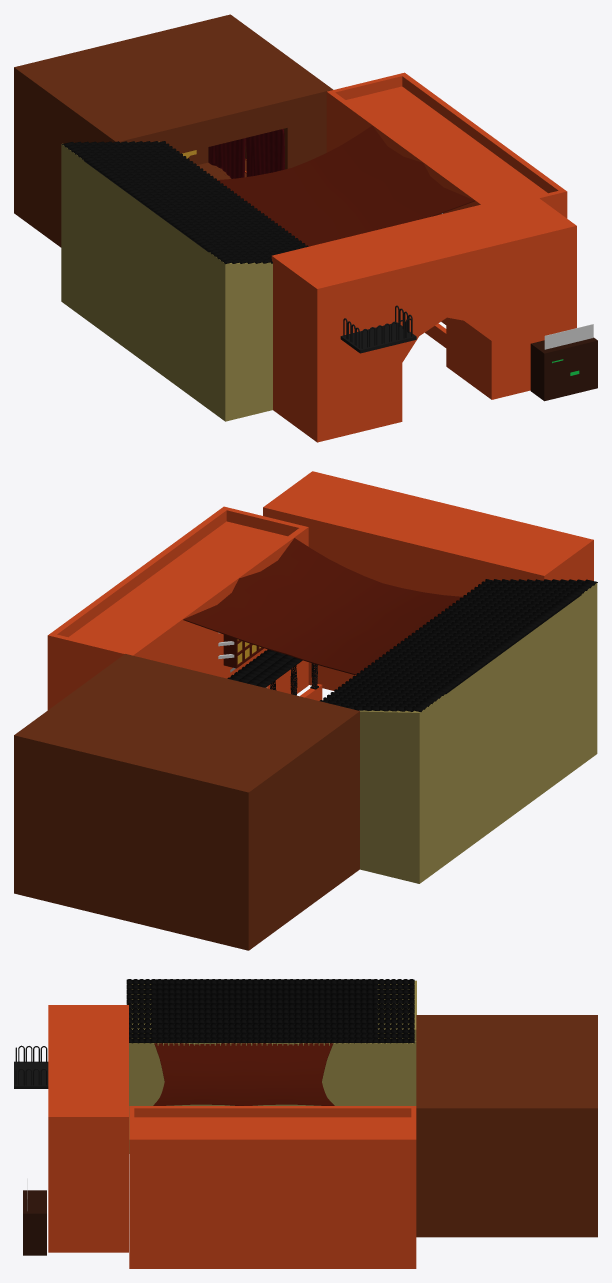
File: NuevoEdificio.obj
3 views of the same model, one above another, from view 1: azimuth 30°, elevation 25°; view 2: azimuth 150°, elevation 25°; view 3: azimuth 270°, elevation 25° (orthographic). The views are drawn at different scales.
Parts seen in each view (by area): view 1: Cube.012, Cube.004, Cube, Capota, Cube.006, Cube.003, Cube.014, Plane.003, Cube.026, Cube.024, Cylinder.002; view 2: Cube.004, Cube, Cube.012, Cube.006, Capota, Cube.003, Cube.007, Cube.021; view 3: Cube.006, Cube.004, Cube.012, Cube.003, Capota, Cube, Cube.014, Plane, Cube.026, Cylinder.004.
Boxes of the visible parts, box(x1,y1,x2,y2) form: Cube.012: box(271, 192, 576, 442); Cube.004: box(14, 14, 333, 247); Cube: box(61, 143, 272, 421); Capota: box(217, 125, 474, 246); Cube.006: box(326, 72, 567, 324); Cube.003: box(62, 141, 308, 264); Cube.014: box(530, 337, 597, 401); Plane.003: box(208, 129, 284, 178); Cube.026: box(340, 322, 416, 353); Cube.024: box(544, 324, 593, 349); Cylinder.002: box(361, 318, 412, 348); Cube.004: box(14, 654, 359, 950); Cube: box(359, 583, 597, 883); Cube.012: box(263, 471, 593, 690); Cube.006: box(47, 506, 308, 710); Capota: box(183, 538, 463, 675); Cube.003: box(320, 579, 597, 711); Cube.007: box(227, 649, 302, 687); Cube.021: box(218, 632, 263, 672); Cube.006: box(129, 1106, 416, 1268); Cube.004: box(416, 1015, 597, 1237); Cube.012: box(48, 1005, 128, 1252); Cube.003: box(126, 979, 414, 1043); Capota: box(153, 1043, 334, 1105); Cube: box(127, 980, 416, 1153); Cube.014: box(23, 1190, 46, 1255); Plane: box(155, 979, 373, 1040); Cube.026: box(14, 1061, 48, 1088); Cylinder.004: box(18, 1045, 47, 1085).
Bounding box in the file's own units: 77.69 × 34.52 × 129.
